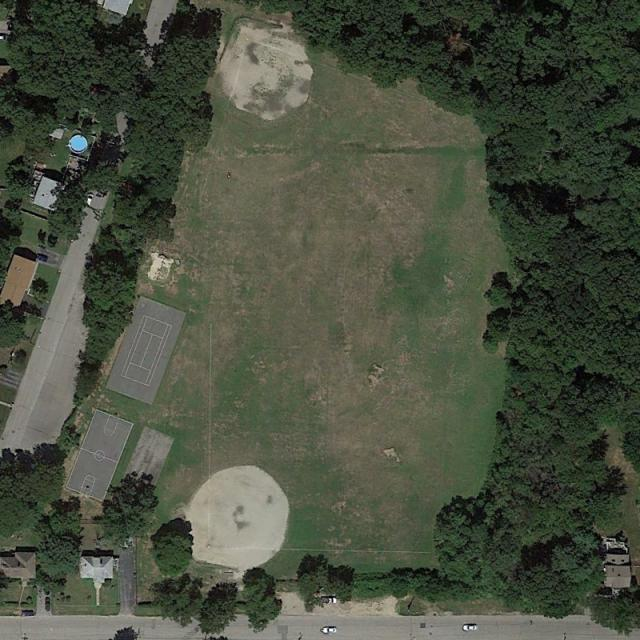vehicle: (322, 597, 337, 605), (462, 624, 479, 631), (37, 252, 48, 262), (322, 627, 337, 634), (21, 610, 34, 618), (86, 193, 93, 205), (45, 597, 50, 611), (1, 34, 6, 42)
